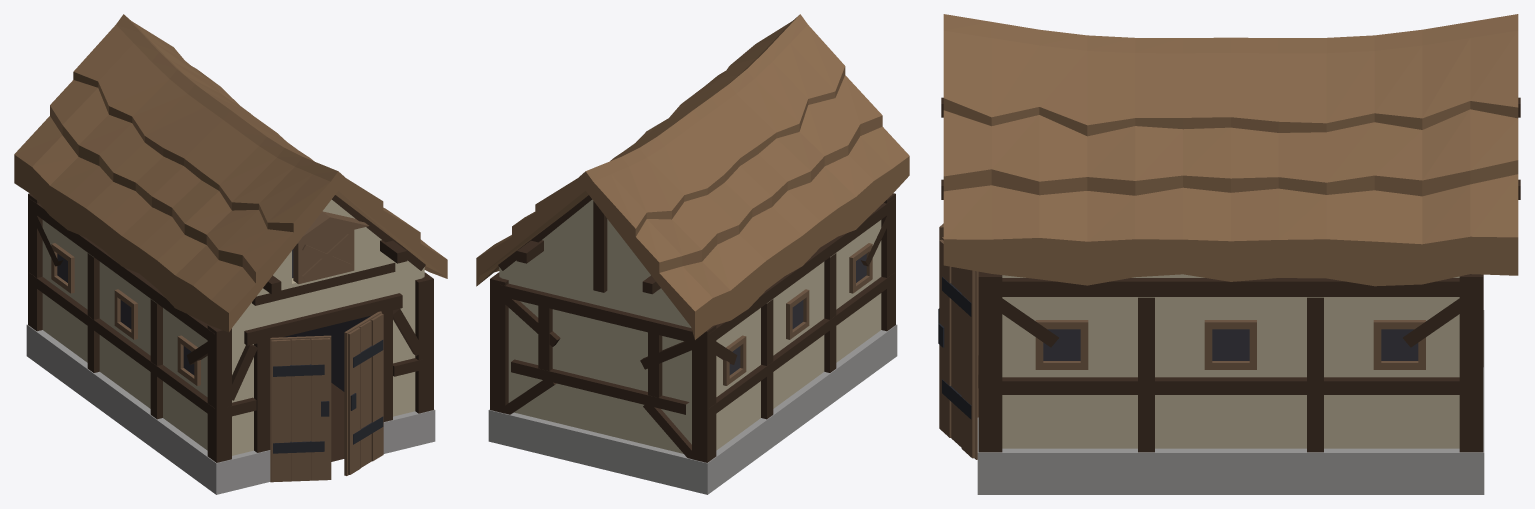
Rendered from timber-barn.glb.
3 renders of one model, left to right at view 1: azimuth 30°, elevation 25°; view 2: azimuth 150°, elevation 25°; view 3: azimuth 270°, elevation 25°, orthographic. The views are drawn at different scales.
Visible parts, largest first — view 1: barn-shell, door-leaf-left, door-leaf-right, loft-hatch-leaf; view 2: barn-shell; view 3: barn-shell, door-leaf-right.
Boxes of the visible parts, <box> form: barn-shell: <box>14,14,447,494</box>; door-leaf-left: <box>270,335,331,482</box>; door-leaf-right: <box>344,311,383,475</box>; loft-hatch-leaf: <box>293,230,354,284</box>; barn-shell: <box>476,14,909,494</box>; barn-shell: <box>941,14,1520,494</box>; door-leaf-right: <box>938,237,978,459</box>.
Bounding box in the file's own units: 4 × 5.35 × 6.89.
